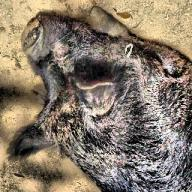boar: (7, 7, 191, 192)
